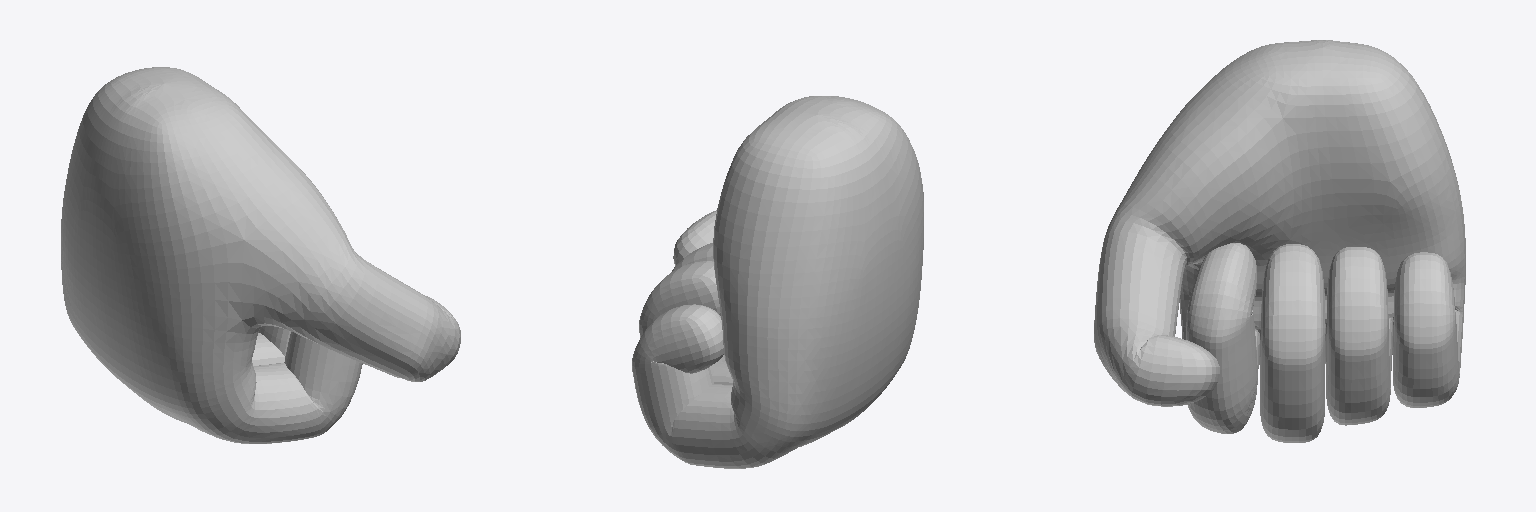
The model's file is HandR-closed.obj.
The picture shows the model from 3 angles: view 1: azimuth 30°, elevation 25°; view 2: azimuth 150°, elevation 25°; view 3: azimuth 270°, elevation 25°; orthographic projection.
Visible parts, largest first — view 1: GEO-Body.002_Body.002; view 2: GEO-Body.002_Body.002; view 3: GEO-Body.002_Body.002.
Part boxes in pixels (x1,y1,x2,y2): GEO-Body.002_Body.002: (61, 67, 460, 443); GEO-Body.002_Body.002: (632, 96, 923, 468); GEO-Body.002_Body.002: (1094, 40, 1465, 442).
Bounding box in the file's own units: 0.0837 × 0.1006 × 0.0976.